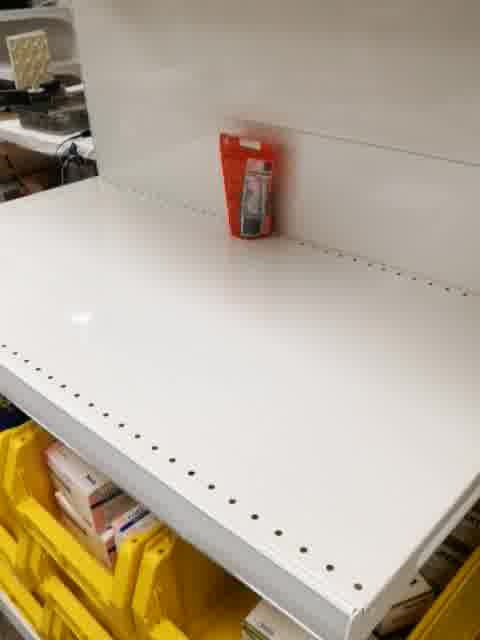whitechia: (216, 128, 282, 242)
